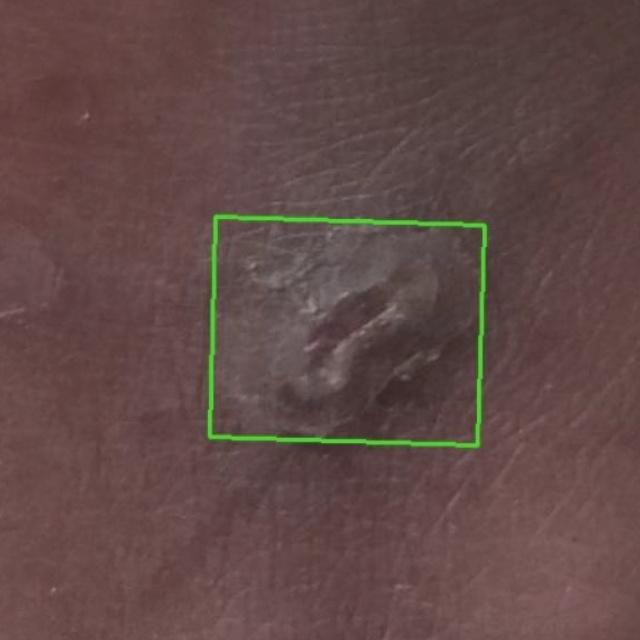Eczema: (210, 218, 485, 445)
